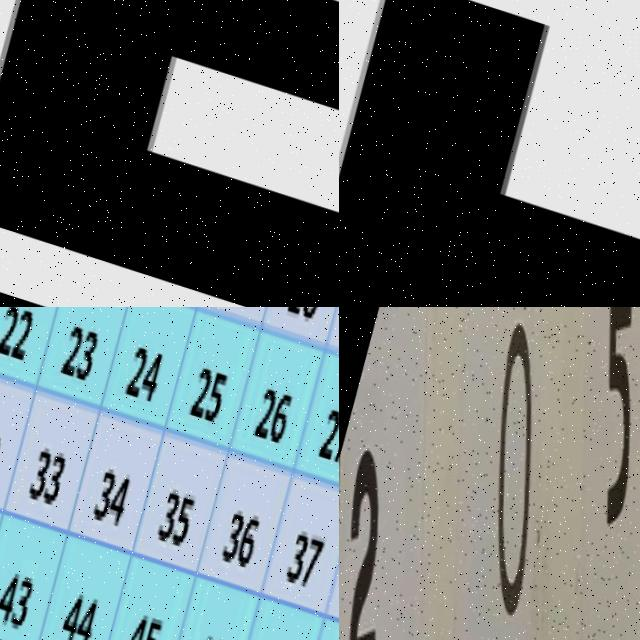2: (339, 428, 442, 640), (243, 374, 282, 441), (181, 356, 216, 420), (51, 320, 86, 381), (308, 397, 339, 463), (3, 307, 35, 369), (119, 339, 151, 397), (0, 307, 23, 362)
3: (144, 480, 182, 545), (211, 502, 246, 568), (34, 446, 68, 511), (83, 460, 118, 523), (274, 525, 310, 585), (68, 321, 102, 383), (19, 444, 52, 507), (1, 574, 32, 628)
4: (133, 344, 165, 404), (100, 471, 131, 528), (50, 587, 82, 640), (110, 601, 150, 640), (65, 594, 98, 640), (0, 562, 21, 626), (177, 620, 214, 640)
5: (532, 307, 640, 537), (196, 366, 228, 427), (164, 490, 194, 548), (128, 606, 162, 640)
6: (225, 506, 262, 571), (261, 382, 294, 445), (292, 307, 329, 327)
7: (292, 531, 322, 588), (325, 407, 339, 463)
E: (0, 0, 339, 307)
H: (339, 0, 640, 307)
